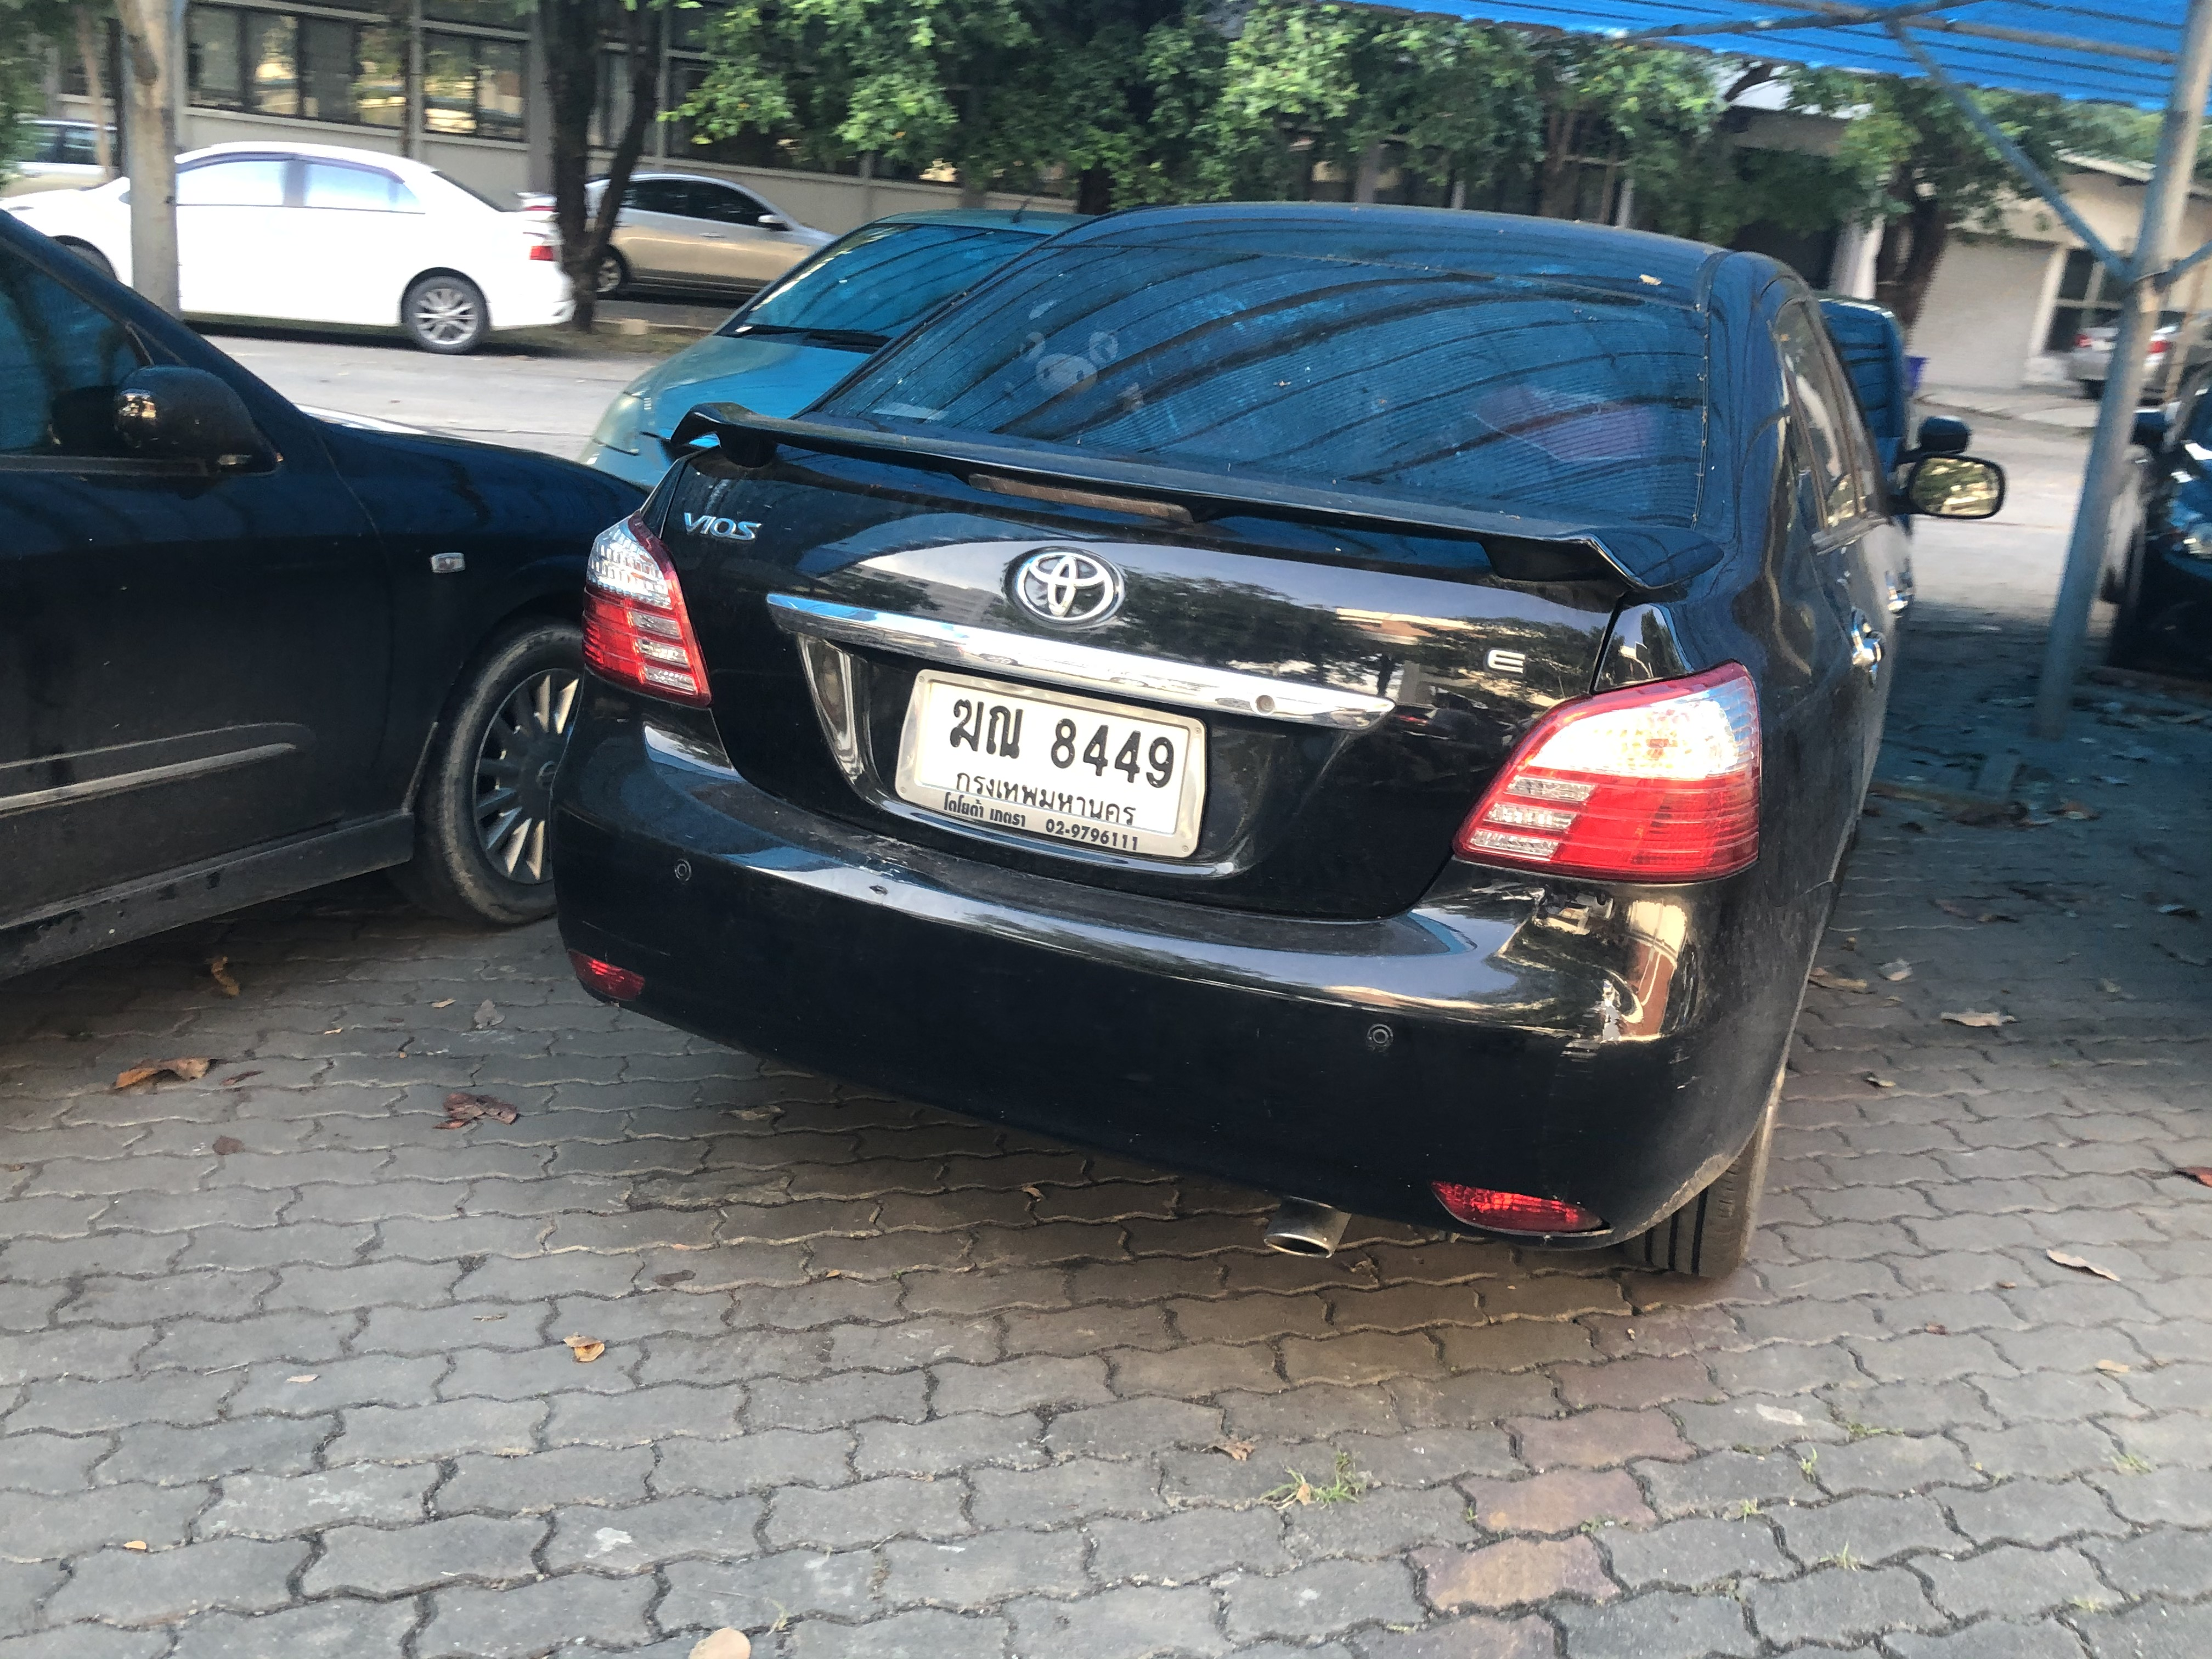in: (914, 680, 1186, 838)
out: (895, 664, 1209, 864)
